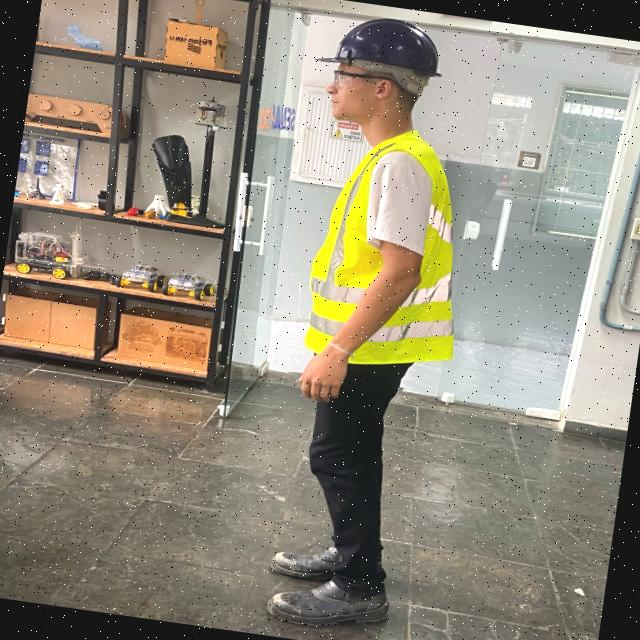BOTA: (261, 573, 398, 625), (270, 545, 385, 583)
CAPACETE: (308, 20, 446, 99)
COLETE: (301, 126, 458, 367)
OCULOS: (334, 70, 407, 93)
SEM LUVA: (302, 342, 347, 401)
